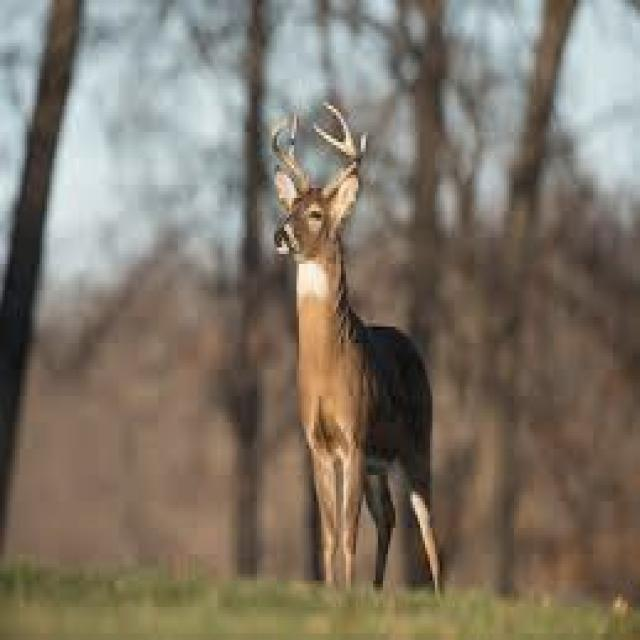bison: (272, 102, 440, 587)
